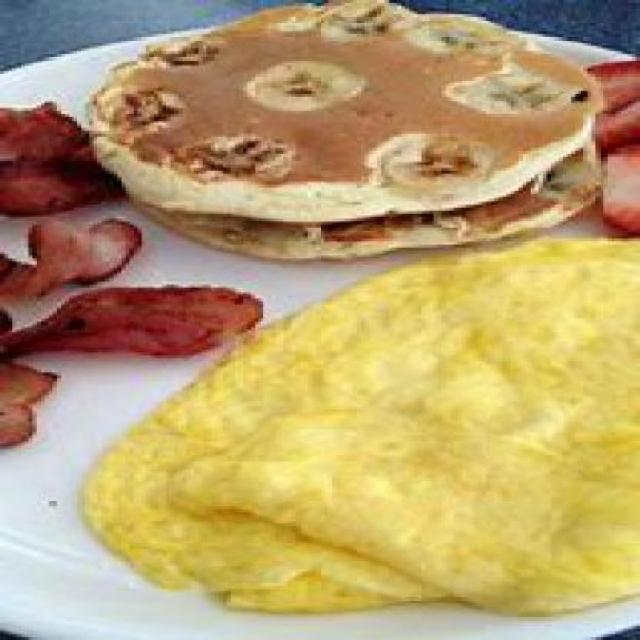omelette: (69, 239, 636, 612)
